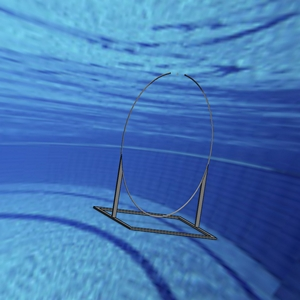circle: (92, 69, 218, 240)
